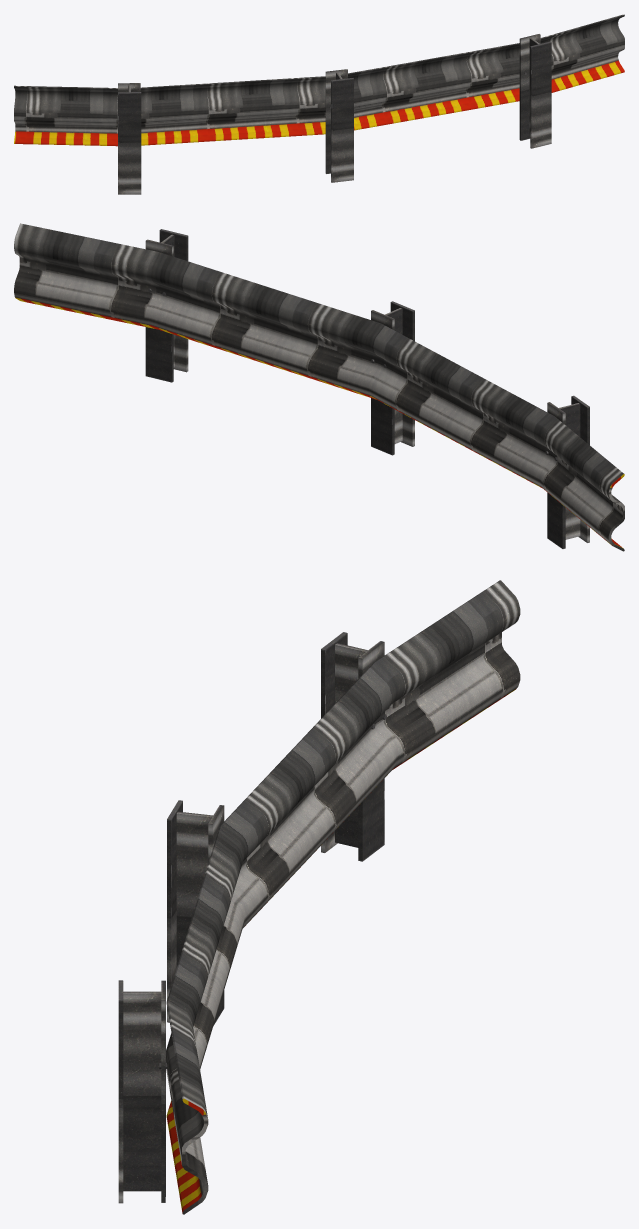
File: Rail 20.FBX
3 renders of one model, top to bottom at view 1: azimuth 30°, elevation 25°; view 2: azimuth 150°, elevation 25°; view 3: azimuth 270°, elevation 25°, orthographic. The views are drawn at different scales.
Parts seen in each view (by area): view 1: guardrail_small_45deg_in; view 2: guardrail_small_45deg_in; view 3: guardrail_small_45deg_in.
Boxes of the visible parts, bbox=[...] form: guardrail_small_45deg_in: bbox=[14, 14, 624, 194]; guardrail_small_45deg_in: bbox=[14, 223, 624, 551]; guardrail_small_45deg_in: bbox=[118, 580, 520, 1214].
Bounding box in the file's own units: 552 × 101 × 181.
